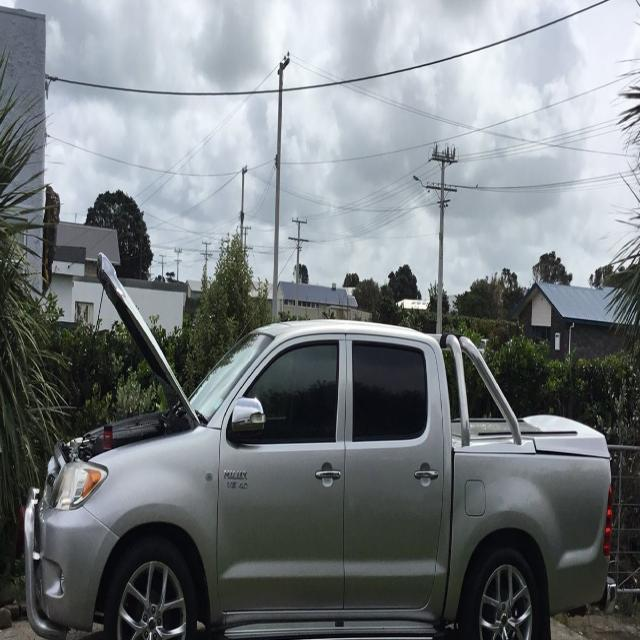light_vehicle: (21, 237, 616, 639)
